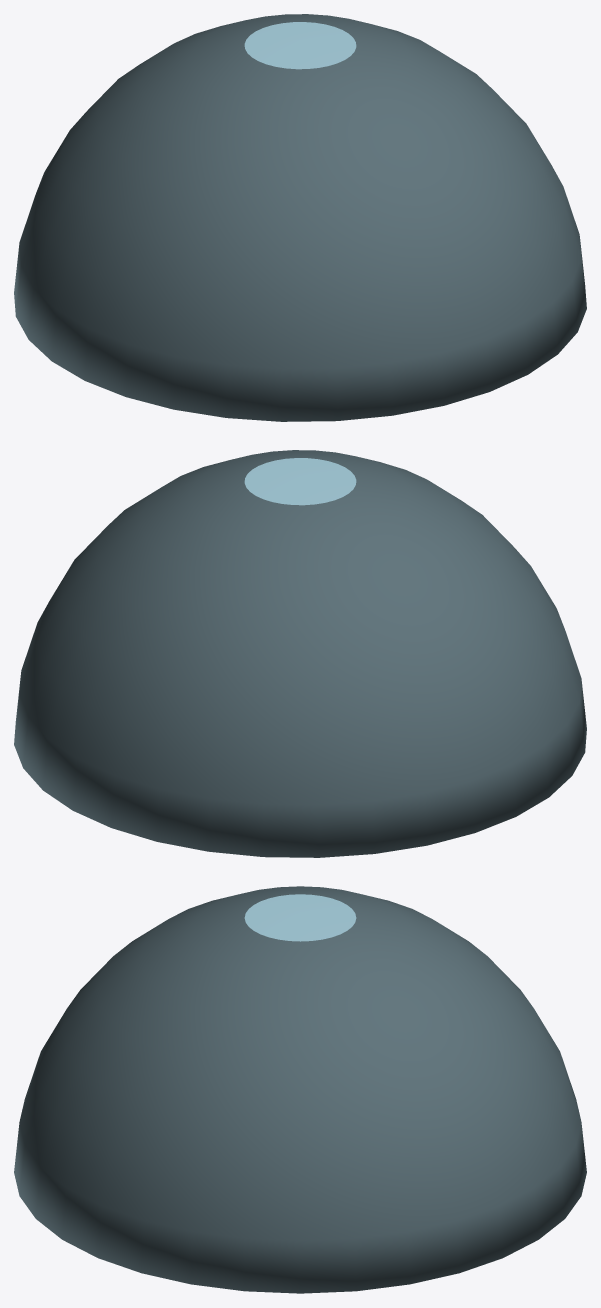
Rendered from cave2.glb.
3 views of the same model, one above another, from view 1: azimuth 30°, elevation 25°; view 2: azimuth 150°, elevation 25°; view 3: azimuth 270°, elevation 25° (orthographic).
Visible parts, largest first — view 1: Sphere; view 2: Sphere; view 3: Sphere.
Part boxes in pixels (x1,y1,x2,y2): Sphere: [14, 14, 586, 421]; Sphere: [14, 450, 586, 857]; Sphere: [14, 886, 586, 1293].
Size of the model in its own units: 2 by 1 by 2.
